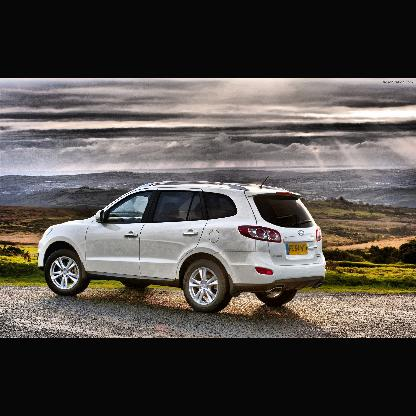Hyundai Santa Fe SUV 2012: (27, 167, 335, 321)
